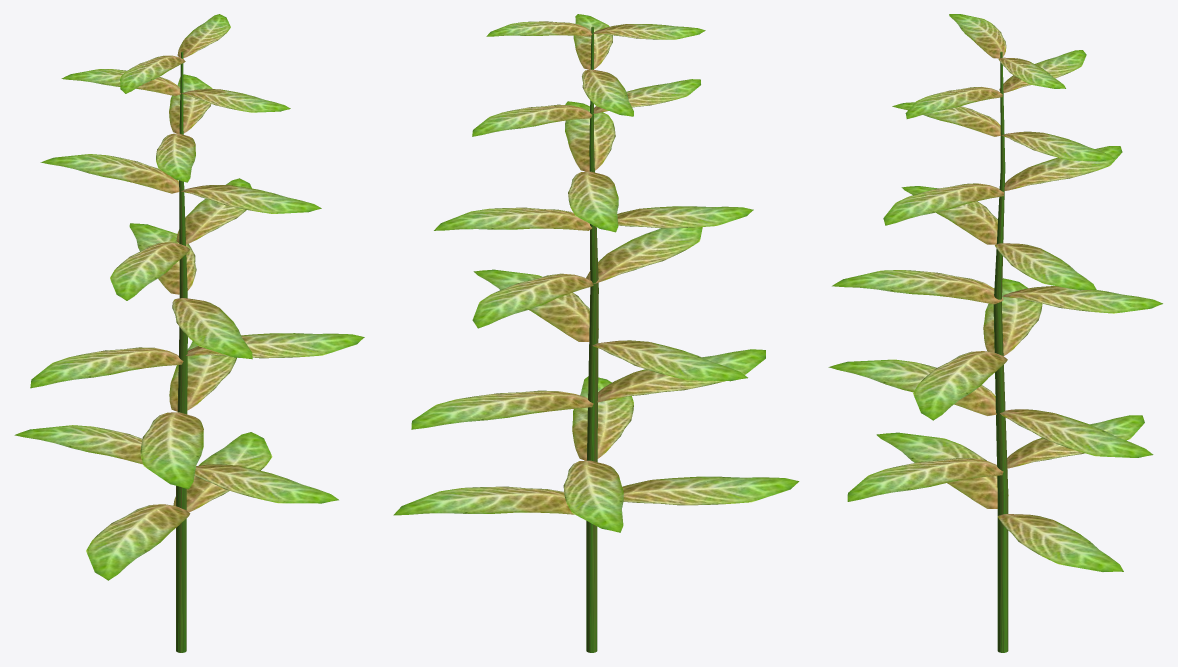
The model's file is Hygrophila.obj.
3 views of the same model, side by side, from view 1: azimuth 30°, elevation 25°; view 2: azimuth 150°, elevation 25°; view 3: azimuth 270°, elevation 25° (orthographic). The views are drawn at different scales.
Visible parts, largest first — view 1: Plane.021_Plane.041, Plane.025_Plane.045, Stem_Cylinder, Plane.028_Plane.048, Plane.022_Plane.042, Plane.029_Plane.049, Plane.027_Plane.047, Plane.023_Plane.043, Plane.033_Plane.053, Plane.020_Plane.040, Plane.032_Plane.052, Plane.034_Plane.054 (+22 smaller); view 2: Stem_Cylinder, Plane.021_Plane.041, Plane.020_Plane.040, Plane.026_Plane.046, Plane.023_Plane.043, Plane.028_Plane.048, Plane.030_Plane.050, Plane.029_Plane.049, Plane.025_Plane.045, Plane.031_Plane.051, Plane.027_Plane.047, Plane.022_Plane.042 (+22 smaller); view 3: Stem_Cylinder, Plane.020_Plane.040, Plane.022_Plane.042, Plane.026_Plane.046, Plane.027_Plane.047, Plane.029_Plane.049, Plane.021_Plane.041, Plane.025_Plane.045, Plane.030_Plane.050, Plane.034_Plane.054, Plane.031_Plane.051, Plane.028_Plane.048 (+22 smaller).
Boxes of the visible parts, x1,y1,x2,y2 form: Plane.021_Plane.041: [86, 504, 189, 580]; Plane.025_Plane.045: [140, 412, 203, 489]; Stem_Cylinder: [176, 51, 187, 652]; Plane.028_Plane.048: [30, 347, 183, 388]; Plane.022_Plane.042: [194, 464, 338, 503]; Plane.029_Plane.049: [172, 298, 252, 359]; Plane.027_Plane.047: [186, 333, 364, 358]; Plane.023_Plane.043: [14, 425, 142, 464]; Plane.033_Plane.053: [41, 154, 179, 193]; Plane.020_Plane.040: [173, 432, 272, 512]; Plane.032_Plane.052: [110, 242, 189, 300]; Plane.034_Plane.054: [181, 185, 321, 213]; Stem_Cylinder: [586, 26, 598, 652]; Plane.021_Plane.041: [622, 476, 799, 505]; Plane.020_Plane.040: [393, 486, 574, 515]; Plane.026_Plane.046: [411, 390, 593, 429]; Plane.023_Plane.043: [563, 460, 623, 532]; Plane.028_Plane.048: [592, 340, 747, 381]; Plane.030_Plane.050: [472, 273, 593, 328]; Plane.029_Plane.049: [586, 227, 702, 283]; Plane.025_Plane.045: [597, 349, 765, 402]; Plane.031_Plane.051: [434, 207, 592, 230]; Plane.027_Plane.047: [473, 269, 598, 341]; Plane.022_Plane.042: [572, 376, 633, 460]; Stem_Cylinder: [993, 51, 1008, 652]; Plane.020_Plane.040: [997, 514, 1123, 571]; Plane.022_Plane.042: [847, 458, 1003, 501]; Plane.026_Plane.046: [1000, 409, 1153, 457]; Plane.027_Plane.047: [913, 351, 1007, 420]; Plane.029_Plane.049: [832, 270, 1003, 304]; Plane.021_Plane.041: [876, 432, 1008, 508]; Plane.025_Plane.045: [828, 359, 996, 415]; Plane.030_Plane.050: [1002, 286, 1162, 313]; Plane.034_Plane.054: [883, 183, 1003, 225]; Plane.031_Plane.051: [995, 243, 1096, 290]; Plane.028_Plane.048: [983, 278, 1042, 355].
Size of the model in its own units: 4.62 by 8.84 by 4.48.
2 materials, 2 textured.
